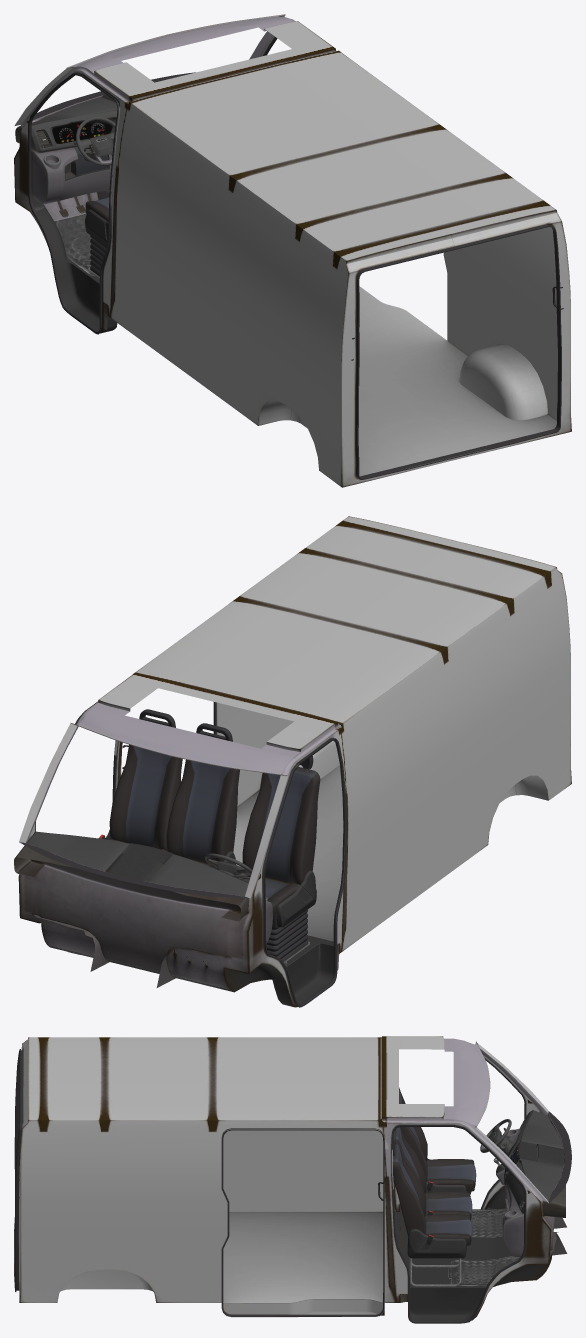
Rendered from iveco_cab.glb.
3 renders of one model, top to bottom at view 1: azimuth 30°, elevation 25°; view 2: azimuth 150°, elevation 25°; view 3: azimuth 270°, elevation 25°, orthographic. The views are drawn at different scales.
Parts seen in each view (by area): view 1: Cab, SteeringWheel; view 2: Cab; view 3: Cab, SteeringWheel.
Boxes of the visible parts, box(x1,y1,x2,y2) form: Cab: box(14, 14, 571, 487); SteeringWheel: box(76, 116, 115, 165); Cab: box(14, 516, 571, 1007); Cab: box(14, 1036, 571, 1323); SteeringWheel: box(480, 1119, 511, 1152).
Bounding box in the file's own units: 1.79 × 1.78 × 4.5.
4 materials, 4 textured.
